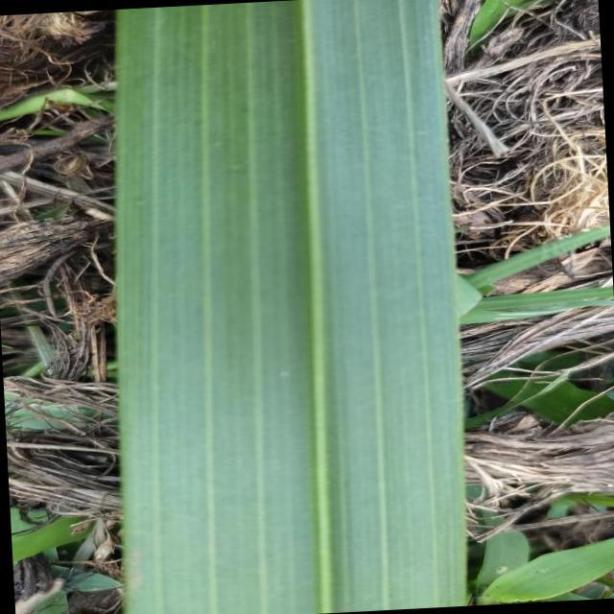Healthy: (115, 0, 469, 614)
